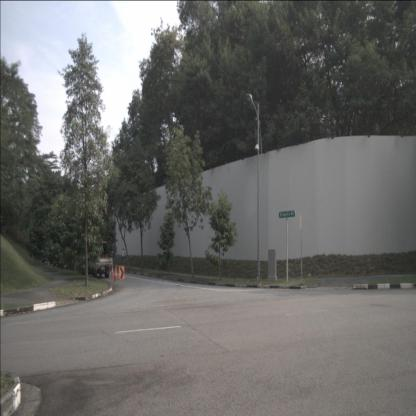cone: (114, 265, 118, 282), (110, 264, 114, 278)
